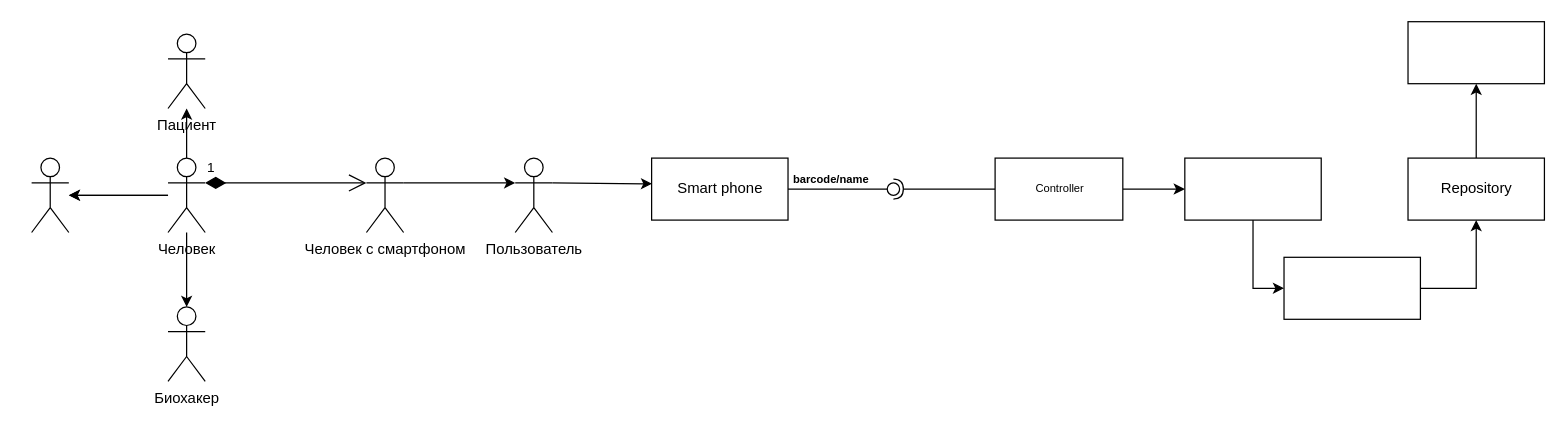
The diagram is 1566 pixels wide and 429 high, and some of its shapes have lost their labels. The centre of each missing label's shape, as x and y in pixels:
"DB" belongs at (x=1475, y=52).
"Domain model" belongs at (x=1351, y=287).
"Service" belongs at (x=1252, y=188).
"ЗОЖник" belongs at (x=49, y=194).
